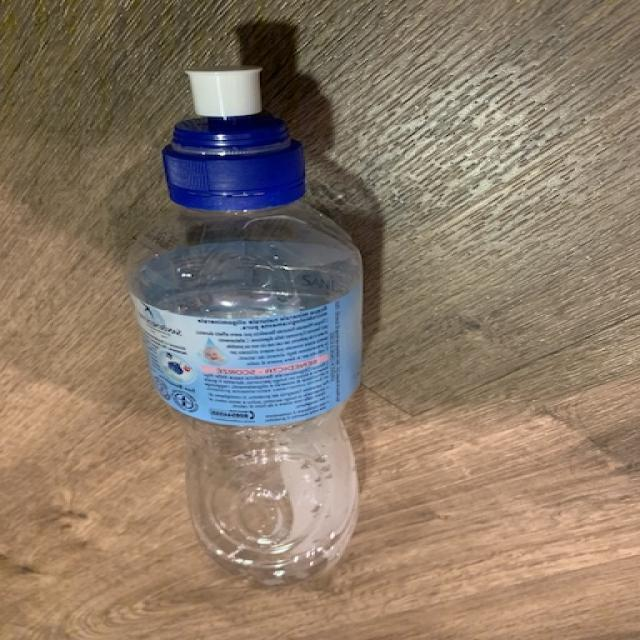plastic_bottle: (126, 64, 366, 588)
